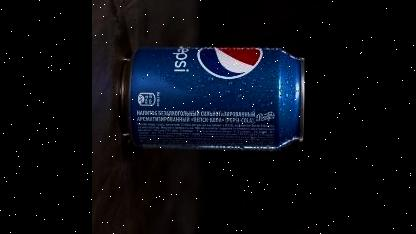Can: (118, 46, 306, 152)
